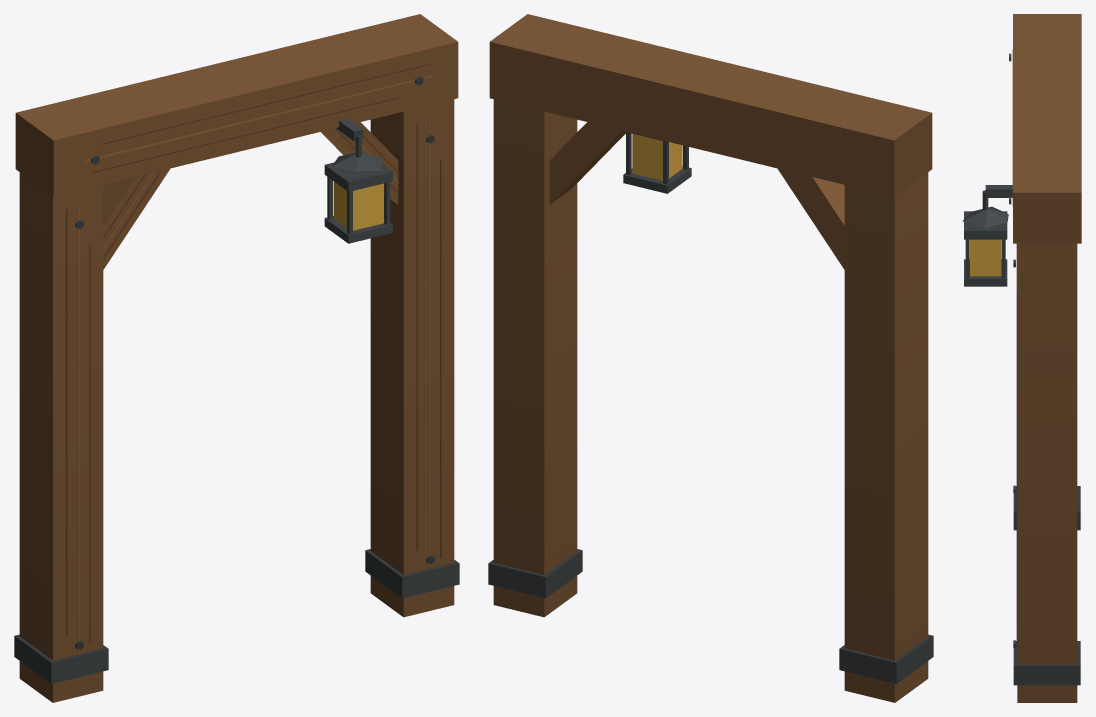
The model's file is mine_support.glb.
3 views of the same model, side by side, from view 1: azimuth 30°, elevation 25°; view 2: azimuth 150°, elevation 25°; view 3: azimuth 270°, elevation 25° (orthographic). The views are drawn at different scales.
Visible parts, largest first — view 1: mine_support; view 2: mine_support; view 3: mine_support.
Part boxes in pixels (<box>): mine_support: <box>14,14,459,702</box>; mine_support: <box>488,14,933,702</box>; mine_support: <box>962,14,1081,702</box>.
Size of the model in its own units: 2.42 by 3.2 by 0.6768.
